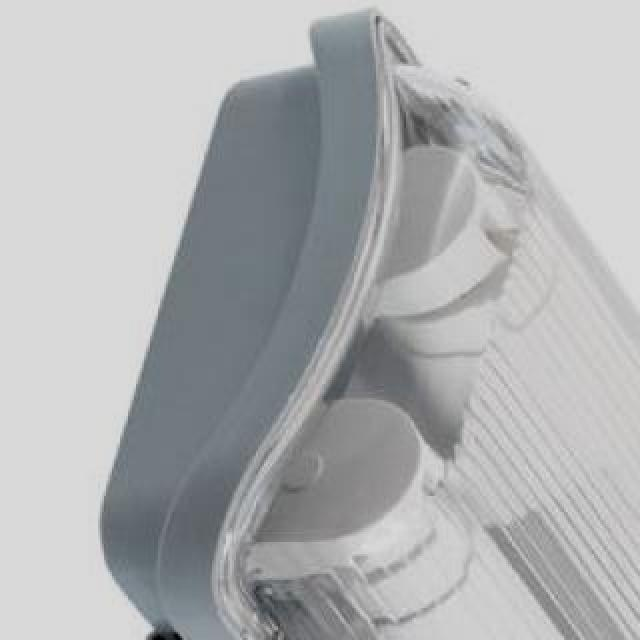fluorescent tube: (332, 108, 640, 640), (256, 388, 640, 640)
